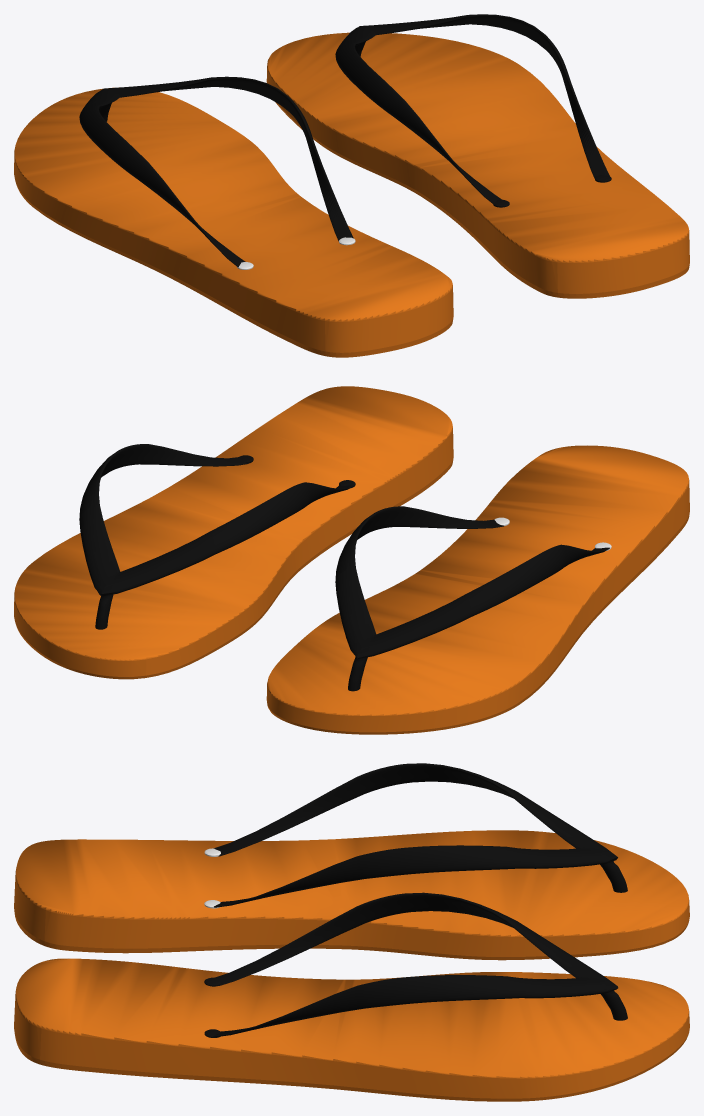
The model's file is flipflops.fbx.
3 renders of one model, top to bottom at view 1: azimuth 30°, elevation 25°; view 2: azimuth 150°, elevation 25°; view 3: azimuth 270°, elevation 25°, orthographic. The views are drawn at different scales.
Visible parts, largest first — view 1: Curve002, Curve003, Loft005, Loft004; view 2: Curve003, Curve002, Loft005, Loft004; view 3: Curve003, Curve002, Loft004, Loft005.
Part boxes in pixels (<box>): Curve002: <box>14,87,453,357</box>; Curve003: <box>266,32,689,298</box>; Loft005: <box>335,14,609,204</box>; Loft004: <box>79,76,353,267</box>; Curve003: <box>14,386,453,679</box>; Curve002: <box>266,445,689,734</box>; Loft005: <box>79,444,353,596</box>; Loft004: <box>335,506,609,658</box>; Curve003: <box>14,958,689,1101</box>; Curve002: <box>14,830,689,960</box>; Loft004: <box>213,763,617,907</box>; Loft005: <box>213,892,618,1036</box>.
Bounding box in the file's own units: 19.91 × 4.18 × 23.07.
